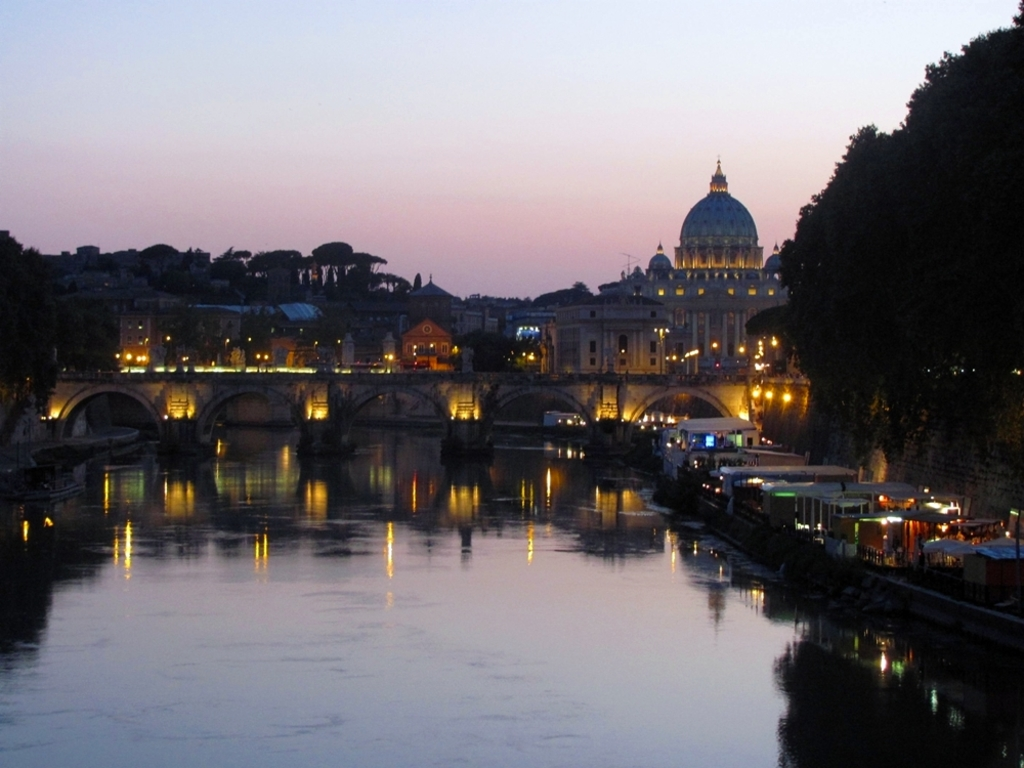Tree: (742, 1, 1022, 376), (215, 236, 407, 296)
